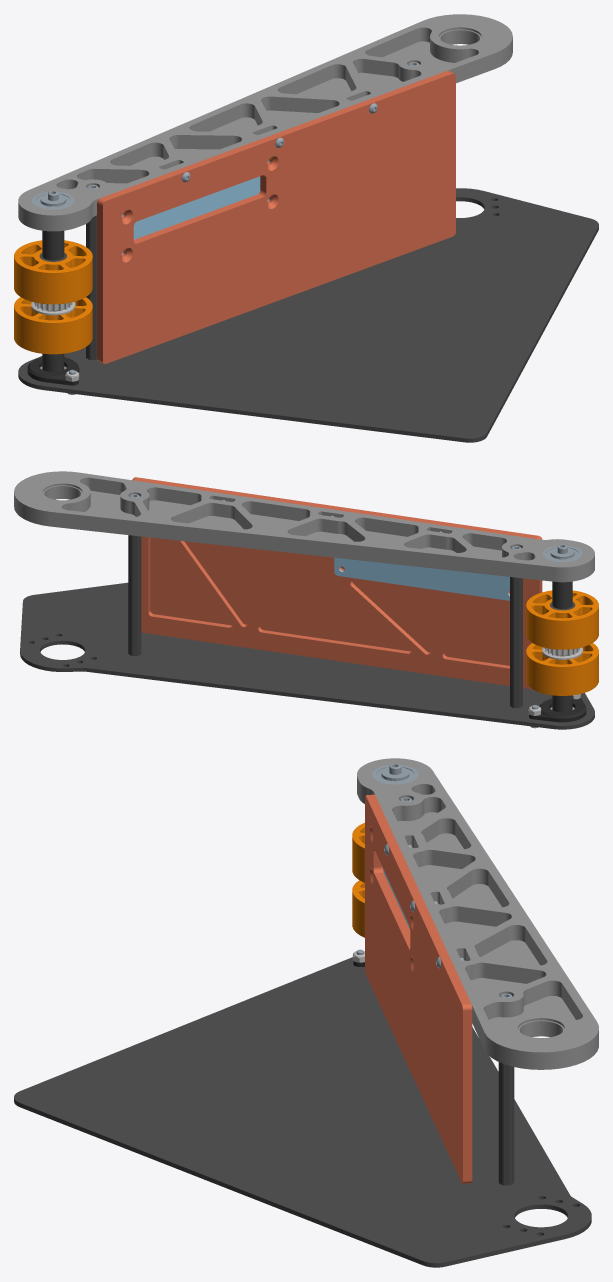
3 renders of one model, top to bottom at view 1: azimuth 30°, elevation 25°; view 2: azimuth 150°, elevation 25°; view 3: azimuth 270°, elevation 25°, orthographic. The views are drawn at different scales.
Parts seen in each view (by area): view 1: FUNNEL FLAP, LEFT, FUNNEL WALL, LEFT, FUNNEL WING TOP PLATE, LEFT, am-3950 2.25N OverMolded 375Hex Compliant Wheel V6 (×2), P-25A-0173, 3/8" ThunderHex (4.875 in), BEARING HAT, Spacer (Configurable); view 2: FUNNEL WALL, LEFT, FUNNEL WING TOP PLATE, LEFT, FUNNEL FLAP, LEFT, am-3950 2.25N OverMolded 375Hex Compliant Wheel V6 (×2), P-25A-0173, 3/8" ThunderHex (4.875 in) (×2), BEARING HAT, Spacer (Configurable), 18t 9mm Wide 1/2" Hex Bore Double Flange 5mm HTD Aluminum Pu; view 3: FUNNEL FLAP, LEFT, FUNNEL WING TOP PLATE, LEFT, FUNNEL WALL, LEFT, 3/8" ThunderHex (4.875 in), am-3950 2.25N OverMolded 375Hex Compliant Wheel V6 (×2).
Part boxes in pixels (bbox=[...]): FUNNEL FLAP, LEFT: bbox=[18, 188, 598, 442]; FUNNEL WALL, LEFT: bbox=[97, 70, 455, 363]; FUNNEL WING TOP PLATE, LEFT: bbox=[18, 14, 512, 231]; am-3950 2.25N OverMolded 375Hex Compliant Wheel V6 (×2): bbox=[14, 240, 92, 354]; P-25A-0173: bbox=[121, 159, 269, 254]; 3/8" ThunderHex (4.875 in): bbox=[86, 215, 97, 359]; BEARING HAT: bbox=[27, 357, 79, 385]; Spacer (Configurable): bbox=[42, 230, 64, 260]; FUNNEL WALL, LEFT: bbox=[132, 477, 542, 689]; FUNNEL WING TOP PLATE, LEFT: bbox=[14, 471, 594, 582]; FUNNEL FLAP, LEFT: bbox=[20, 566, 594, 729]; am-3950 2.25N OverMolded 375Hex Compliant Wheel V6 (×2): bbox=[526, 590, 598, 695]; P-25A-0173: bbox=[334, 557, 509, 600]; 3/8" ThunderHex (4.875 in) (×2): bbox=[128, 535, 522, 708]; BEARING HAT: bbox=[529, 697, 586, 722]; Spacer (Configurable): bbox=[552, 581, 572, 608]; 18t 9mm Wide 1/2" Hex Bore Double Flange 5mm HTD Aluminum Pu: bbox=[542, 647, 582, 659]; FUNNEL FLAP, LEFT: bbox=[14, 957, 591, 1267]; FUNNEL WING TOP PLATE, LEFT: bbox=[357, 758, 598, 1069]; FUNNEL WALL, LEFT: bbox=[365, 794, 472, 1183]; 3/8" ThunderHex (4.875 in): bbox=[498, 1062, 514, 1185]; am-3950 2.25N OverMolded 375Hex Compliant Wheel V6 (×2): bbox=[352, 822, 364, 937].
Bounding box in the file's own units: 0.4981 × 0.1559 × 0.3859.
